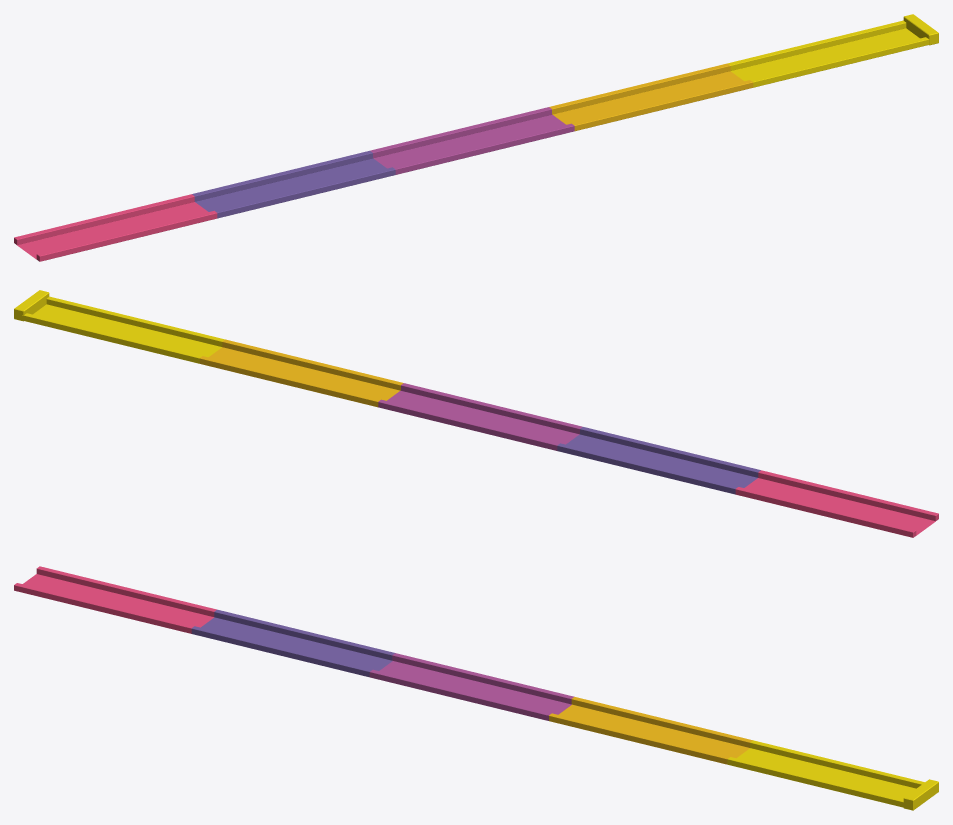
File: TargetRange.fbx
3 renders of one model, top to bottom at view 1: azimuth 30°, elevation 25°; view 2: azimuth 150°, elevation 25°; view 3: azimuth 330°, elevation 25°, orthographic.
Parts seen in each view (by area): view 1: Cube.048; view 2: Cube.048; view 3: Cube.048.
Boxes of the visible parts, box(x1,y1,x2,y2) form: Cube.048: box(14, 14, 938, 261); Cube.048: box(14, 290, 938, 537); Cube.048: box(14, 566, 938, 810).
Size of the model in its own units: 503 by 5.73 by 25.11.
